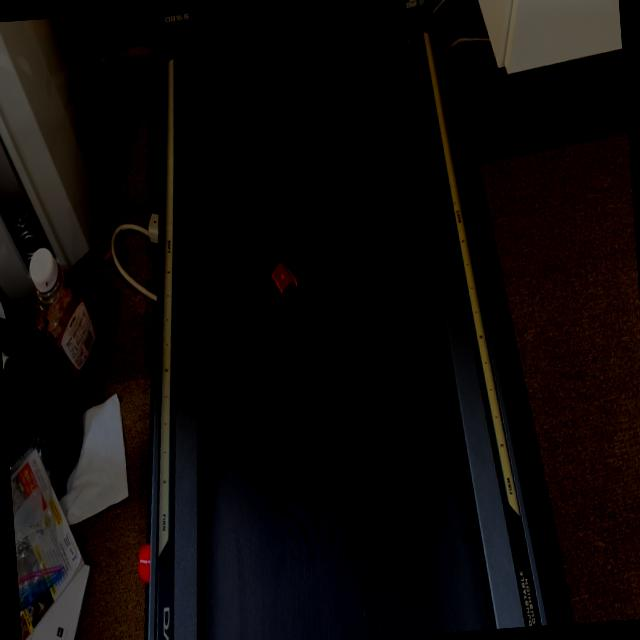Trash: (272, 260, 300, 300)
